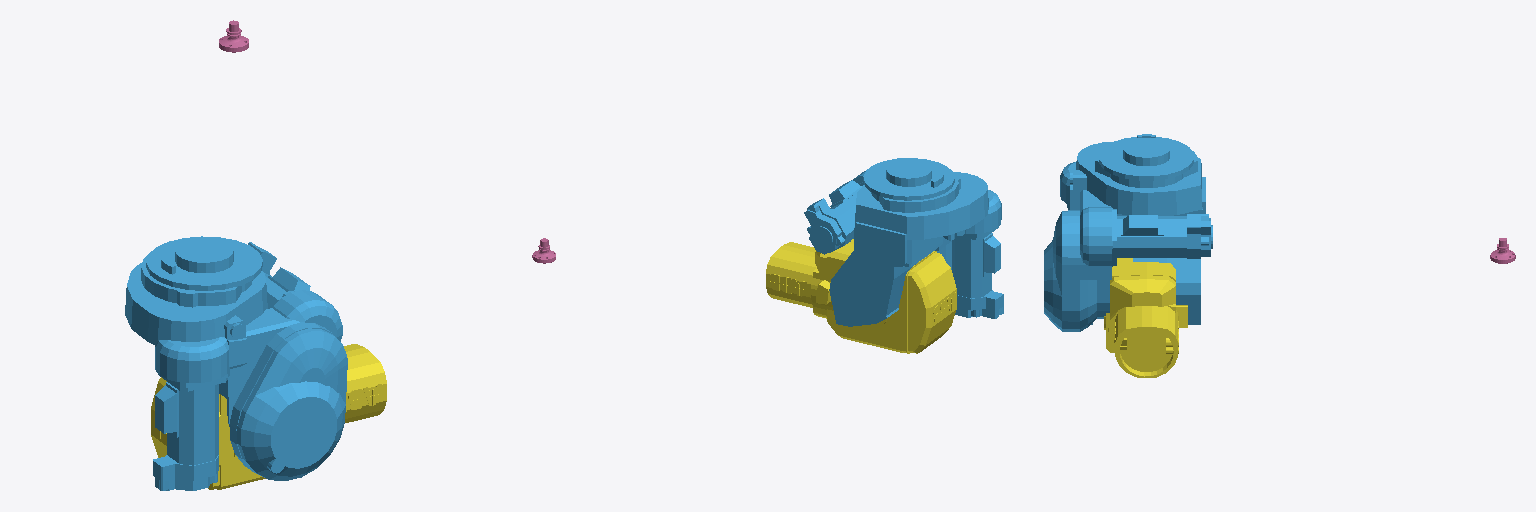
robot.urdf — panda:
<?xml version="1.0" encoding="utf-8"?>
<!-- =================================================================================== -->
<!-- |    This document is a hand edited version of the output autogenerated by xacro  | -->
<!-- |    from panda_arm_hand.urdf.xacro                                               | -->
<!-- =================================================================================== -->
<robot xmlns:drake="http://drake.mit.edu" name="panda">
  <link name="panda_link0">
    <inertial>
      <mass value="2.92"/>
      <origin xyz="-0.025566 -2.88e-05 0.057332" rpy="0 0 0"/>
      <inertia ixx="0.00782229414331" ixy="-1.56191622996e-05" ixz="-0.00126005738123" iyy="0.0109027971813" iyz="1.08233858202e-05" izz="0.0102355503949"/>
    </inertial>
    <visual>
      <origin rpy="1.57079632679 0 0"/>
      <geometry>
        <mesh filename="package://drake/manipulation/models/franka_description/meshes/visual/link0.obj"/>
      </geometry>
    </visual>
    <collision>
      <origin rpy="0 0 0" xyz="0.02 0.0 0.04"/>
      <geometry>
        <sphere radius="0.06"/>
      </geometry>
    </collision>
    <collision>
      <origin rpy="0 0 0" xyz="0.01 0.05 0.06"/>
      <geometry>
        <sphere radius="0.06"/>
      </geometry>
    </collision>
    <collision>
      <origin rpy="0 0 0" xyz="0.01 -0.05 0.06"/>
      <geometry>
        <sphere radius="0.06"/>
      </geometry>
    </collision>
    <collision>
      <origin rpy="0 0 0" xyz="-0.06 0.0 0.06"/>
      <geometry>
        <sphere radius="0.06"/>
      </geometry>
    </collision>
    <collision>
      <origin rpy="0 0 0" xyz="-0.06 0.05 0.06"/>
      <geometry>
        <sphere radius="0.06"/>
      </geometry>
    </collision>
    <collision>
      <origin rpy="0 0 0" xyz="-0.03 0.05 0.06"/>
      <geometry>
        <sphere radius="0.06"/>
      </geometry>
    </collision>
    <collision>
      <origin rpy="0 0 0" xyz="-0.03 -0.05 0.06"/>
      <geometry>
        <sphere radius="0.06"/>
      </geometry>
    </collision>
    <collision>
      <origin rpy="0 0 0" xyz="-0.06 -0.05 0.06"/>
      <geometry>
        <sphere radius="0.06"/>
      </geometry>
    </collision>
    <collision>
      <origin rpy="0 0 0" xyz="-0.09 -0.05 0.06"/>
      <geometry>
        <sphere radius="0.06"/>
      </geometry>
    </collision>
    <collision>
      <origin rpy="0 0 0" xyz="-0.09 0.0 0.06"/>
      <geometry>
        <sphere radius="0.06"/>
      </geometry>
    </collision>
    <collision>
      <origin rpy="0 0 0" xyz="-0.09 0.05 0.06"/>
      <geometry>
        <sphere radius="0.06"/>
      </geometry>
    </collision>
    <collision>
      <origin rpy="0 0 0" xyz="-0.12 0.0 0.06"/>
      <geometry>
        <sphere radius="0.06"/>
      </geometry>
    </collision>
    <collision>
      <origin rpy="0 0 0" xyz="0.0 0.0 0.113"/>
      <geometry>
        <sphere radius="0.06"/>
      </geometry>
    </collision>
    <collision>
      <origin rpy="0 0 0" xyz="0.0 0.0 0.083"/>
      <geometry>
        <sphere radius="0.06"/>
      </geometry>
    </collision>
  </link>
  <link name="panda_link1">
    <inertial>
      <mass value="2.74"/>
      <origin xyz="0 -0.0324958 -0.0675818" rpy="0 0 0"/>
      <inertia ixx="0.0180416958283" ixy="0.0" ixz="0.0" iyy="0.0159136071891" iyz="0.0046758424612" izz="0.00620690827127"/>
    </inertial>
    <visual>
      <origin rpy="1.57079632679 0 0"/>
      <geometry>
        <mesh filename="package://drake/manipulation/models/franka_description/meshes/visual/link1.obj"/>
      </geometry>
    </visual>
    <collision>
      <origin rpy="0 0 0" xyz="0.0 0.0 -0.13"/>
      <geometry>
        <sphere radius="0.06"/>
      </geometry>
    </collision>
    <collision>
      <origin rpy="0 0 0" xyz="0.0 0.0 -0.16"/>
      <geometry>
        <sphere radius="0.06"/>
      </geometry>
    </collision>
    <collision>
      <origin rpy="0 0 0" xyz="0.0 0.0 -0.19"/>
      <geometry>
        <sphere radius="0.06"/>
      </geometry>
    </collision>
    <collision>
      <origin rpy="0 0 0" xyz="0.0 -0.04 -0.06"/>
      <geometry>
        <sphere radius="0.06"/>
      </geometry>
    </collision>
    <collision>
      <origin rpy="0 0 0" xyz="0.0 -0.0750 -0.0"/>
      <geometry>
        <sphere radius="0.06"/>
      </geometry>
    </collision>
    <collision>
      <origin rpy="0 0 0" xyz="0.0 -0.0350 -0.0"/>
      <geometry>
        <sphere radius="0.06"/>
      </geometry>
    </collision>
  </link>
  <joint name="panda_joint1" type="revolute">
    <safety_controller k_position="100.0" k_velocity="40.0" soft_lower_limit="-2.8973" soft_upper_limit="2.8973"/>
    <origin rpy="0 0 0" xyz="0 0 0.333"/>
    <parent link="panda_link0"/>
    <child link="panda_link1"/>
    <axis xyz="0 0 1"/>
    <limit effort="87" lower="-2.8973" upper="2.8973" velocity="2.1750"/>
  </joint>
  <link name="panda_link2">
    <inertial>
      <mass value="2.74"/>
      <origin xyz="0 -0.06861 0.0322285" rpy="0 0 0"/>
      <inertia ixx="0.0182856182281" ixy="0.0" ixz="0.0" iyy="0.00621358421175" iyz="-0.00472844221905" izz="0.0161514346309"/>
    </inertial>
    <visual>
      <origin rpy="1.57079632679 0 0"/>
      <geometry>
        <mesh filename="package://drake/manipulation/models/franka_description/meshes/visual/link2.obj"/>
      </geometry>
    </visual>
    <collision>
      <origin rpy="0 0 0" xyz="0.0 0.0 0.0"/>
      <geometry>
        <sphere radius="0.06"/>
      </geometry>
    </collision>
    <collision>
      <origin rpy="0 0 0" xyz="0.0 0.0 0.035"/>
      <geometry>
        <sphere radius="0.06"/>
      </geometry>
    </collision>
    <collision>
      <origin rpy="0 0 0" xyz="0.0 0.0 0.075"/>
      <geometry>
        <sphere radius="0.06"/>
      </geometry>
    </collision>
    <collision>
      <origin rpy="0 0 0" xyz="0.0 -0.1710 0.0"/>
      <geometry>
        <sphere radius="0.06"/>
      </geometry>
    </collision>
    <collision>
      <origin rpy="0 0 0" xyz="0.0 -0.1360 0.0"/>
      <geometry>
        <sphere radius="0.06"/>
      </geometry>
    </collision>
    <collision>
      <origin rpy="0 0 0" xyz="0.0 -0.070 0.040"/>
      <geometry>
        <sphere radius="0.06"/>
      </geometry>
    </collision>
  </link>
  <joint name="panda_joint2" type="revolute">
    <safety_controller k_position="100.0" k_velocity="40.0" soft_lower_limit="-1.7628" soft_upper_limit="1.7628"/>
    <origin rpy="-1.57079632679 0 0" xyz="0 0 0"/>
    <parent link="panda_link1"/>
    <child link="panda_link2"/>
    <axis xyz="0 0 1"/>
    <limit effort="87" lower="-1.7628" upper="1.7628" velocity="2.1750"/>
  </joint>
  <link name="panda_link3">
    <inertial>
      <mass value="2.38"/>
      <origin xyz="0.0469893 0.0316374 -0.031704" rpy="0 0 0"/>
      <inertia ixx="0.00771376630908" ixy="-0.00248490625138" ixz="-0.00332147581033" iyy="0.00989108008727" iyz="-0.00217796151484" izz="0.00811723558464"/>
    </inertial>
    <visual>
      <origin rpy="1.57079632679 0 0"/>
      <geometry>
        <mesh filename="package://drake/manipulation/models/franka_description/meshes/visual/link3.obj"/>
      </geometry>
    </visual>
    <collision>
      <origin rpy="0 0 0" xyz="0.0 0.0 -0.11"/>
      <geometry>
        <sphere radius="0.06"/>
      </geometry>
    </collision>
    <collision>
      <origin rpy="0 0 0" xyz="0.0 0.0 -0.07"/>
      <geometry>
        <sphere radius="0.06"/>
      </geometry>
    </collision>
    <collision>
      <origin rpy="0 0 0" xyz="0.0825 0.03 -0.0"/>
      <geometry>
        <sphere radius="0.06"/>
      </geometry>
    </collision>
    <collision>
      <origin rpy="0 0 0" xyz="0.0825 0.06 -0.0"/>
      <geometry>
        <sphere radius="0.06"/>
      </geometry>
    </collision>
    <collision>
      <origin rpy="0 0 0" xyz="0.04 0.03 -0.03"/>
      <geometry>
        <sphere radius="0.06"/>
      </geometry>
    </collision>
  </link>
  <joint name="panda_joint3" type="revolute">
    <safety_controller k_position="100.0" k_velocity="40.0" soft_lower_limit="-2.8973" soft_upper_limit="2.8973"/>
    <origin rpy="1.57079632679 0 0" xyz="0 -0.316 0"/>
    <parent link="panda_link2"/>
    <child link="panda_link3"/>
    <axis xyz="0 0 1"/>
    <limit effort="87" lower="-2.8973" upper="2.8973" velocity="2.1750"/>
  </joint>
  <link name="panda_link4">
    <inertial>
      <mass value="2.38"/>
      <origin xyz="-0.0360446 0.0336853 0.031882" rpy="0 0 0"/>
      <inertia ixx="0.00799663881132" ixy="0.00347095570217" ixz="-0.00241222942995" iyy="0.00825390705278" iyz="0.00235774044121" izz="0.0102515004345"/>
    </inertial>
    <visual>
      <origin rpy="1.57079632679 0 0"/>
      <geometry>
        <mesh filename="package://drake/manipulation/models/franka_description/meshes/visual/link4.obj"/>
      </geometry>
    </visual>
    <collision>
      <origin rpy="0 0 0" xyz="0.0 0.0 0.06"/>
      <geometry>
        <sphere radius="0.06"/>
      </geometry>
    </collision>
    <collision>
      <origin rpy="0 0 0" xyz="0.0 0.0 0.03"/>
      <geometry>
        <sphere radius="0.06"/>
      </geometry>
    </collision>
    <collision>
      <origin rpy="0 0 0" xyz="-0.0350 0.03 0.04"/>
      <geometry>
        <sphere radius="0.05"/>
      </geometry>
    </collision>
    <collision>
      <origin rpy="0 0 0" xyz="-0.05 0.04 0.01"/>
      <geometry>
        <sphere radius="0.055"/>
      </geometry>
    </collision>
    <collision>
      <origin rpy="0 0 0" xyz="0.0 0.0 0.0"/>
      <geometry>
        <sphere radius="0.06"/>
      </geometry>
    </collision>
    <collision>
      <origin rpy="0 0 0" xyz="-0.0825 0.0640 -0.0"/>
      <geometry>
        <sphere radius="0.06"/>
      </geometry>
    </collision>
    <collision>
      <origin rpy="0 0 0" xyz="-0.0825 0.1040 -0.0"/>
      <geometry>
        <sphere radius="0.06"/>
      </geometry>
    </collision>
  </link>
  <joint name="panda_joint4" type="revolute">
    <safety_controller k_position="100.0" k_velocity="40.0" soft_lower_limit="-3.0718" soft_upper_limit="-0.0698"/>
    <origin rpy="1.57079632679 0 0" xyz="0.0825 0 0"/>
    <parent link="panda_link3"/>
    <child link="panda_link4"/>
    <axis xyz="0 0 1"/>
    <limit effort="87" lower="-3.0718" upper="-0.0698" velocity="2.1750"/>
  </joint>
  <link name="panda_link5">
    <inertial>
      <mass value="2.74"/>
      <origin xyz="0 0.0610427 -0.104176" rpy="0 0 0"/>
      <inertia ixx="0.030371374513" ixy="6.50283587108e-07" ixz="-1.05129179916e-05" iyy="0.0288752887402" iyz="-0.00775653445787" izz="0.00444134056164"/>
    </inertial>
    <visual>
      <origin rpy="1.57079632679 0 0"/>
      <geometry>
        <mesh filename="package://drake/manipulation/models/franka_description/meshes/visual/link5.obj"/>
      </geometry>
    </visual>
    <collision>
      <origin rpy="0 0 0" xyz="0.0 0.0 -0.24"/>
      <geometry>
        <sphere radius="0.06"/>
      </geometry>
    </collision>
    <collision>
      <origin rpy="0 0 0" xyz="0.0 0.0 -0.21"/>
      <geometry>
        <sphere radius="0.06"/>
      </geometry>
    </collision>
    <collision>
      <origin rpy="0 0 0" xyz="0.0 0.09 -0.055"/>
      <geometry>
        <sphere radius="0.035"/>
      </geometry>
    </collision>
    <collision>
      <origin rpy="0 0 0" xyz="0.0 0.0850 -0.08"/>
      <geometry>
        <sphere radius="0.035"/>
      </geometry>
    </collision>
    <collision>
      <origin rpy="0 0 0" xyz="0.0 0.0850 -0.11"/>
      <geometry>
        <sphere radius="0.035"/>
      </geometry>
    </collision>
    <collision>
      <origin rpy="0 0 0" xyz="0.0 0.08 -0.13"/>
      <geometry>
        <sphere radius="0.035"/>
      </geometry>
    </collision>
    <collision>
      <origin rpy="0 0 0" xyz="0.0 0.08 -0.15"/>
      <geometry>
        <sphere radius="0.035"/>
      </geometry>
    </collision>
    <collision>
      <origin rpy="0 0 0" xyz="0.0 0.07 -0.16"/>
      <geometry>
        <sphere radius="0.04"/>
      </geometry>
    </collision>
    <collision>
      <origin rpy="0 0 0" xyz="0.0 0.08 -0.02"/>
      <geometry>
        <sphere radius="0.05"/>
      </geometry>
    </collision>
    <collision>
      <origin rpy="0 0 0" xyz="0.0 0.08 -0.0"/>
      <geometry>
        <sphere radius="0.055"/>
      </geometry>
    </collision>
    <collision>
      <origin rpy="0 0 0" xyz="0.0 0.05 -0.20"/>
      <geometry>
        <sphere radius="0.055"/>
      </geometry>
    </collision>
    <collision>
      <origin rpy="0 0 0" xyz="0.0 0.07 -0.0"/>
      <geometry>
        <sphere radius="0.06"/>
      </geometry>
    </collision>
  </link>
  <joint name="panda_joint5" type="revolute">
    <safety_controller k_position="100.0" k_velocity="40.0" soft_lower_limit="-2.8973" soft_upper_limit="2.8973"/>
    <origin rpy="-1.57079632679 0 0" xyz="-0.0825 0.384 0"/>
    <parent link="panda_link4"/>
    <child link="panda_link5"/>
    <axis xyz="0 0 1"/>
    <limit effort="12" lower="-2.8973" upper="2.8973" velocity="2.6100"/>
  </joint>
  <link name="panda_link6">
    <inertial>
      <mass value="1.55"/>
      <origin xyz="0.0510509 0.009108 0.0106343" rpy="0 0 0"/>
      <inertia ixx="0.00303336450376" ixy="-0.000437276865508" ixz="0.000629257294877" iyy="0.00404479911567" iyz="0.000130472021025" izz="0.00558234286039"/>
    </inertial>
    <visual>
      <origin rpy="1.57079632679 0 0"/>
      <geometry>
        <mesh filename="package://drake/manipulation/models/franka_description/meshes/visual/link6.obj"/>
      </geometry>
    </visual>
    <collision>
      <origin rpy="0 0 0" xyz="0.08 0.03 0.0"/>
      <geometry>
        <sphere radius="0.06"/>
      </geometry>
    </collision>
    <collision>
      <origin rpy="0 0 0" xyz="0.04 0.01 0.0"/>
      <geometry>
        <sphere radius="0.06"/>
      </geometry>
    </collision>
    <collision>
      <origin rpy="0 0 0" xyz="0.04 0.0 0.0"/>
      <geometry>
        <sphere radius="0.06"/>
      </geometry>
    </collision>
    <collision>
      <origin rpy="0 0 0" xyz="0.0 0.0 0.01"/>
      <geometry>
        <sphere radius="0.06"/>
      </geometry>
    </collision>
    <collision>
      <origin rpy="0 0 0" xyz="0.0 0.0 -0.03"/>
      <geometry>
        <sphere radius="0.05"/>
      </geometry>
    </collision>
  </link>
  <joint name="panda_joint6" type="revolute">
    <safety_controller k_position="100.0" k_velocity="40.0" soft_lower_limit="-0.0175" soft_upper_limit="3.7525"/>
    <origin rpy="1.57079632679 0 0" xyz="0 0 0"/>
    <parent link="panda_link5"/>
    <child link="panda_link6"/>
    <axis xyz="0 0 1"/>
    <limit effort="12" lower="-0.0175" upper="3.7525" velocity="2.610"/>
  </joint>
  <link name="panda_link7">
    <inertial>
      <mass value="0.54"/>
      <origin xyz="0.0109695 0.0107965 0.0650411" rpy="0 0 0"/>
      <inertia ixx="0.000888868887021" ixy="-0.00012239074652" ixz="3.98699829666e-05" iyy="0.000888001373233" iyz="-9.33825115206e-05" izz="0.0007176834609"/>
    </inertial>
    <visual>
      <origin rpy="1.57079632679 0 0"/>
      <geometry>
        <mesh filename="package://drake/manipulation/models/franka_description/meshes/visual/link7.obj"/>
      </geometry>
    </visual>
    <collision>
      <origin rpy="0 0 0" xyz="0 0 0.06"/>
      <geometry>
        <sphere radius="0.06"/>
      </geometry>
    </collision>
    <collision>
      <origin rpy="0 0 0" xyz="0 0 0.01"/>
      <geometry>
        <sphere radius="0.05"/>
      </geometry>
    </collision>
  </link>
  <joint name="panda_joint7" type="revolute">
    <safety_controller k_position="100.0" k_velocity="40.0" soft_lower_limit="-2.8973" soft_upper_limit="2.8973"/>
    <origin rpy="1.57079632679 0 0" xyz="0.088 0 0"/>
    <parent link="panda_link6"/>
    <child link="panda_link7"/>
    <axis xyz="0 0 1"/>
    <limit effort="12" lower="-2.8973" upper="2.8973" velocity="2.610"/>
  </joint>
  <link name="panda_link8">
    <collision>
      <origin rpy="0 0 0" xyz="0.042 0.042 -0.02"/>
      <geometry>
        <sphere radius="0.04"/>
      </geometry>
    </collision>
  </link>
  <joint name="panda_joint8" type="fixed">
    <origin rpy="0 0 0" xyz="0 0 0.107"/>
    <parent link="panda_link7"/>
    <child link="panda_link8"/>
  </joint>
  <joint name="panda_hand_joint" type="fixed">
    <parent link="panda_link8"/>
    <child link="panda_hand"/>
    <origin rpy="0 0 -0.785398163397" xyz="0 0 0"/>
  </joint>
  <transmission name="panda_tran1">
    <type>transmission_interface/SimpleTransmission</type>
    <joint name="panda_joint1">
      <hardwareInterface>PositionJointInterface</hardwareInterface>
    </joint>
    <actuator name="panda_motor1">
      <hardwareInterface>PositionJointInterface</hardwareInterface>
      <mechanicalReduction>1</mechanicalReduction>
    </actuator>
  </transmission>
  <transmission name="panda_tran2">
    <type>transmission_interface/SimpleTransmission</type>
    <joint name="panda_joint2">
      <hardwareInterface>PositionJointInterface</hardwareInterface>
    </joint>
    <actuator name="panda_motor2">
      <hardwareInterface>PositionJointInterface</hardwareInterface>
      <mechanicalReduction>1</mechanicalReduction>
    </actuator>
  </transmission>
  <transmission name="panda_tran3">
    <type>transmission_interface/SimpleTransmission</type>
    <joint name="panda_joint3">
      <hardwareInterface>PositionJointInterface</hardwareInterface>
    </joint>
    <actuator name="panda_motor3">
      <hardwareInterface>PositionJointInterface</hardwareInterface>
      <mechanicalReduction>1</mechanicalReduction>
    </actuator>
  </transmission>
  <transmission name="panda_tran4">
    <type>transmission_interface/SimpleTransmission</type>
    <joint name="panda_joint4">
      <hardwareInterface>PositionJointInterface</hardwareInterface>
    </joint>
    <actuator name="panda_motor4">
      <hardwareInterface>PositionJointInterface</hardwareInterface>
      <mechanicalReduction>1</mechanicalReduction>
    </actuator>
  </transmission>
  <transmission name="panda_tran5">
    <type>transmission_interface/SimpleTransmission</type>
    <joint name="panda_joint5">
      <hardwareInterface>PositionJointInterface</hardwareInterface>
    </joint>
    <actuator name="panda_motor5">
      <hardwareInterface>PositionJointInterface</hardwareInterface>
      <mechanicalReduction>1</mechanicalReduction>
    </actuator>
  </transmission>
  <transmission name="panda_tran6">
    <type>transmission_interface/SimpleTransmission</type>
    <joint name="panda_joint6">
      <hardwareInterface>PositionJointInterface</hardwareInterface>
    </joint>
    <actuator name="panda_motor6">
      <hardwareInterface>PositionJointInterface</hardwareInterface>
      <mechanicalReduction>1</mechanicalReduction>
    </actuator>
  </transmission>
  <transmission name="panda_tran7">
    <type>transmission_interface/SimpleTransmission</type>
    <joint name="panda_joint7">
      <hardwareInterface>PositionJointInterface</hardwareInterface>
    </joint>
    <actuator name="panda_motor7">
      <hardwareInterface>PositionJointInterface</hardwareInterface>
      <mechanicalReduction>1</mechanicalReduction>
    </actuator>
  </transmission>
  <link name="panda_hand">
    <inertial>
      <mass value="0.73"/>
      <origin xyz="0 0.0015244 0.0275912" rpy="0 0 0"/>
      <inertia ixx="0.00278560230025" ixy="0.0" ixz="0.0" iyy="0.000400033405336" iyz="0.0" izz="0.00256378041832"/>
    </inertial>
    <visual>
      <origin rpy="1.57079632679 0 0"/>
      <geometry>
        <mesh filename="package://drake/manipulation/models/franka_description/meshes/visual/hand.obj"/>
      </geometry>
    </visual>
    <collision>
      <origin rpy="0 0 0" xyz="0 -0.06 0.015"/>
      <geometry>
        <sphere radius="0.05"/>
      </geometry>
    </collision>
    <collision>
      <origin rpy="0 0 0" xyz="0 -0.06 0.03"/>
      <geometry>
        <sphere radius="0.05"/>
      </geometry>
    </collision>
    <collision>
      <origin rpy="0 0 0" xyz="0 0 0.03"/>
      <geometry>
        <sphere radius="0.05"/>
      </geometry>
    </collision>
    <collision>
      <origin rpy="0 0 0" xyz="0 0.06 0.03"/>
      <geometry>
        <sphere radius="0.05"/>
      </geometry>
    </collision>
  </link>
  <link name="panda_leftfinger">
    <inertial>
      <mass value="0.1"/>
      <origin xyz="0 0.0145644 0.0227941" rpy="0 0 0"/>
      <inertia ixx="3.01220925051e-05" ixy="0.0" ixz="0.0" iyy="2.95873808038e-05" iyz="0.0" izz="6.95125211657e-06"/>
    </inertial>
    <visual>
      <origin rpy="1.57079632679 0 0"/>
      <geometry>
        <mesh filename="package://drake/manipulation/models/franka_description/meshes/visual/finger.obj"/>
      </geometry>
    </visual>
    <collision>
      <origin rpy="0 0 0" xyz="0 0.007 0.045"/>
      <geometry>
        <sphere radius="0.012"/>
      </geometry>
    </collision>
    <collision>
      <origin rpy="0 0 0" xyz="0 0.015 0.03"/>
      <geometry>
        <sphere radius="0.012"/>
      </geometry>
    </collision>
  </link>
  <link name="panda_rightfinger">
    <inertial>
      <mass value="0.1"/>
      <origin xyz="0 0.0145644 0.0227941" rpy="0 0 3.14159265359"/>
      <inertia ixx="3.01220925051e-05" ixy="0.0" ixz="0.0" iyy="2.95873808038e-05" iyz="0.0" izz="6.95125211657e-06"/>
    </inertial>
    <visual>
      <origin rpy="1.57079632679 0 3.14159265359" xyz="0 0 0"/>
      <geometry>
        <mesh filename="package://drake/manipulation/models/franka_description/meshes/visual/finger.obj"/>
      </geometry>
    </visual>
    <collision>
      <origin rpy="0 0 0" xyz="0 -0.007 0.045"/>
      <geometry>
        <sphere radius="0.012"/>
      </geometry>
    </collision>
    <collision>
      <origin rpy="0 0 0" xyz="0 -0.015 0.03"/>
      <geometry>
        <sphere radius="0.012"/>
      </geometry>
    </collision>
  </link>
  <joint name="panda_finger_joint1" type="prismatic">
    <parent link="panda_hand"/>
    <child link="panda_leftfinger"/>
    <origin rpy="0 0 0" xyz="0 0 0.0584"/>
    <axis xyz="0 1 0"/>
    <limit effort="20" lower="0.0" upper="0.04" velocity="0.2"/>
  </joint>
  <joint name="panda_finger_joint2" type="prismatic">
    <parent link="panda_hand"/>
    <child link="panda_rightfinger"/>
    <origin rpy="0 0 0" xyz="0 0 0.0584"/>
    <axis xyz="0 -1 0"/>
    <limit effort="20" lower="0.0" upper="0.04" velocity="0.2"/>
    <mimic joint="panda_finger_joint1"/>
  </joint>
  <transmission name="panda_finger_tran1">
    <type>transmission_interface/SimpleTransmission</type>
    <joint name="panda_finger_joint1">
      <hardwareInterface>PositionJointInterface</hardwareInterface>
    </joint>
    <actuator name="panda_finger_motor1">
      <hardwareInterface>PositionJointInterface</hardwareInterface>
      <mechanicalReduction>1</mechanicalReduction>
    </actuator>
  </transmission>
  <transmission name="panda_finger_tran2">
    <type>transmission_interface/SimpleTransmission</type>
    <joint name="panda_finger_joint2">
      <hardwareInterface>PositionJointInterface</hardwareInterface>
    </joint>
    <actuator name="panda_finger_motor2">
      <hardwareInterface>PositionJointInterface</hardwareInterface>
      <mechanicalReduction>1</mechanicalReduction>
    </actuator>
  </transmission>
  <drake:collision_filter_group name="group_link57">
    <drake:member link="panda_link5"/>
    <drake:member link="panda_link7"/>
    <drake:ignored_collision_filter_group name="group_link57"/>
  </drake:collision_filter_group>
</robot>

--- What the picture shows (computed from the rendered views, not written in the file) ---
The picture shows the robot from 3 angles, left to right: view 1: azimuth 30°, elevation 25°; view 2: azimuth 150°, elevation 25°; view 3: azimuth 270°, elevation 25°; orthographic projection.
Model panda with 12 links and 11 joints (7 revolute, 2 prismatic, 2 fixed), rooted at panda_link0, posed joints at zero except 1 at the middle of their limits (panda_joint4 = -1.57).
Links seen in each view (by area): view 1: panda_link1, panda_link3, panda_link6; view 2: panda_link1, panda_link3; view 3: panda_link1, panda_link3.
Link boxes in pixels (box(x1,y1,x2,y2)): panda_link1: box(125, 236, 347, 490); panda_link3: box(151, 344, 386, 489); panda_link6: box(219, 20, 248, 52); panda_link1: box(804, 158, 1003, 326); panda_link3: box(766, 239, 956, 353); panda_link1: box(1044, 134, 1212, 331); panda_link3: box(1104, 258, 1187, 377).
Bounding box of the posed robot: 0.646 × 0.9413 × 0.4191 m (x, y, z).
3 mesh visuals loaded from 10 distinct referenced files (3 OBJ); not drawn: 8 (reference not matched to a file when rendering).